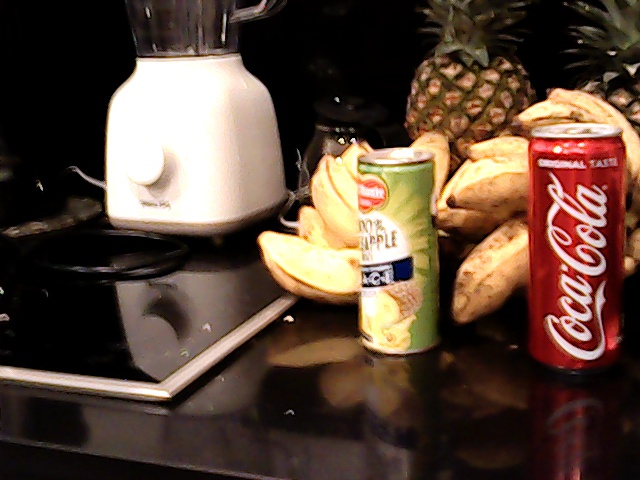Cola: (519, 121, 631, 369)
Pine Juice: (353, 143, 447, 354)
